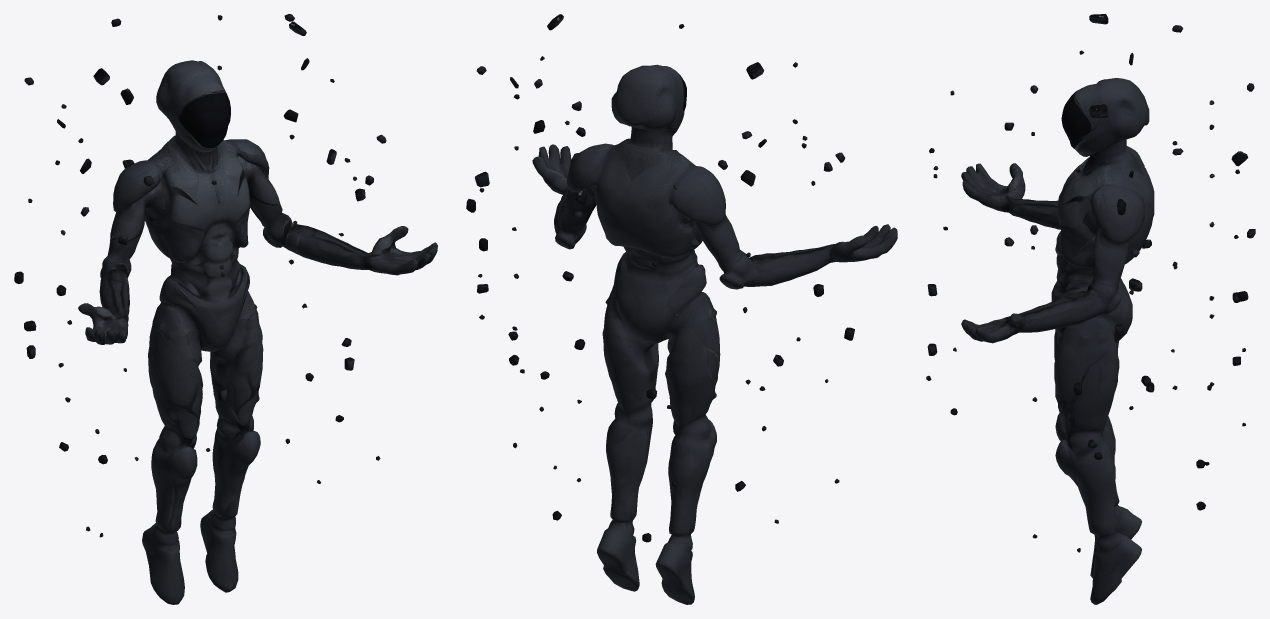
The model's file is echo-warden.glb.
The picture shows the model from 3 angles, left to right: view 1: azimuth 30°, elevation 25°; view 2: azimuth 150°, elevation 25°; view 3: azimuth 270°, elevation 25°; orthographic projection. The views are drawn at different scales.
Size of the model in its own units: 1.33 by 1.91 by 1.07.
1 material, 1 textured.
